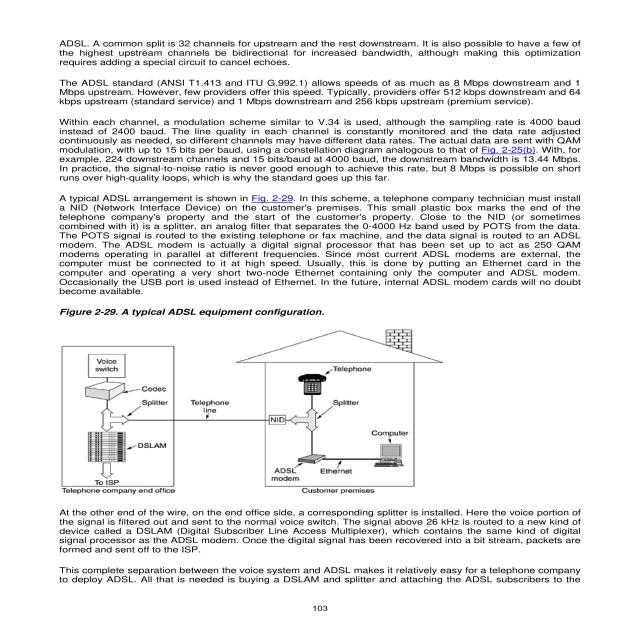diagram: (47, 301, 516, 501)
